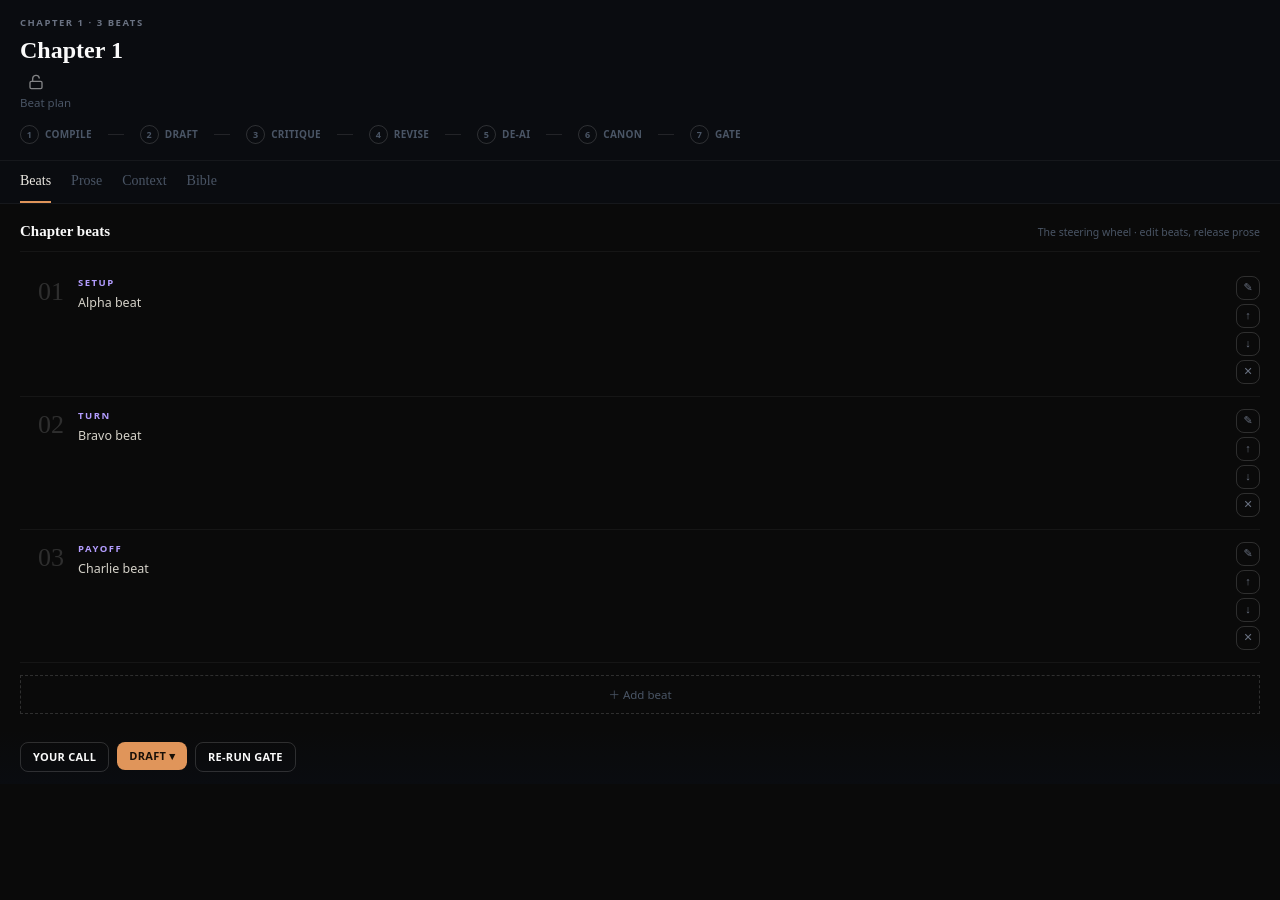
Test: DeckWorkspace — beat delete control › a 409 from the PATCH surfaces the locked-chapter refusal toast
Click the 1st button titled "Delete beat": x=1248, y=372 [1236,360,1260,384]
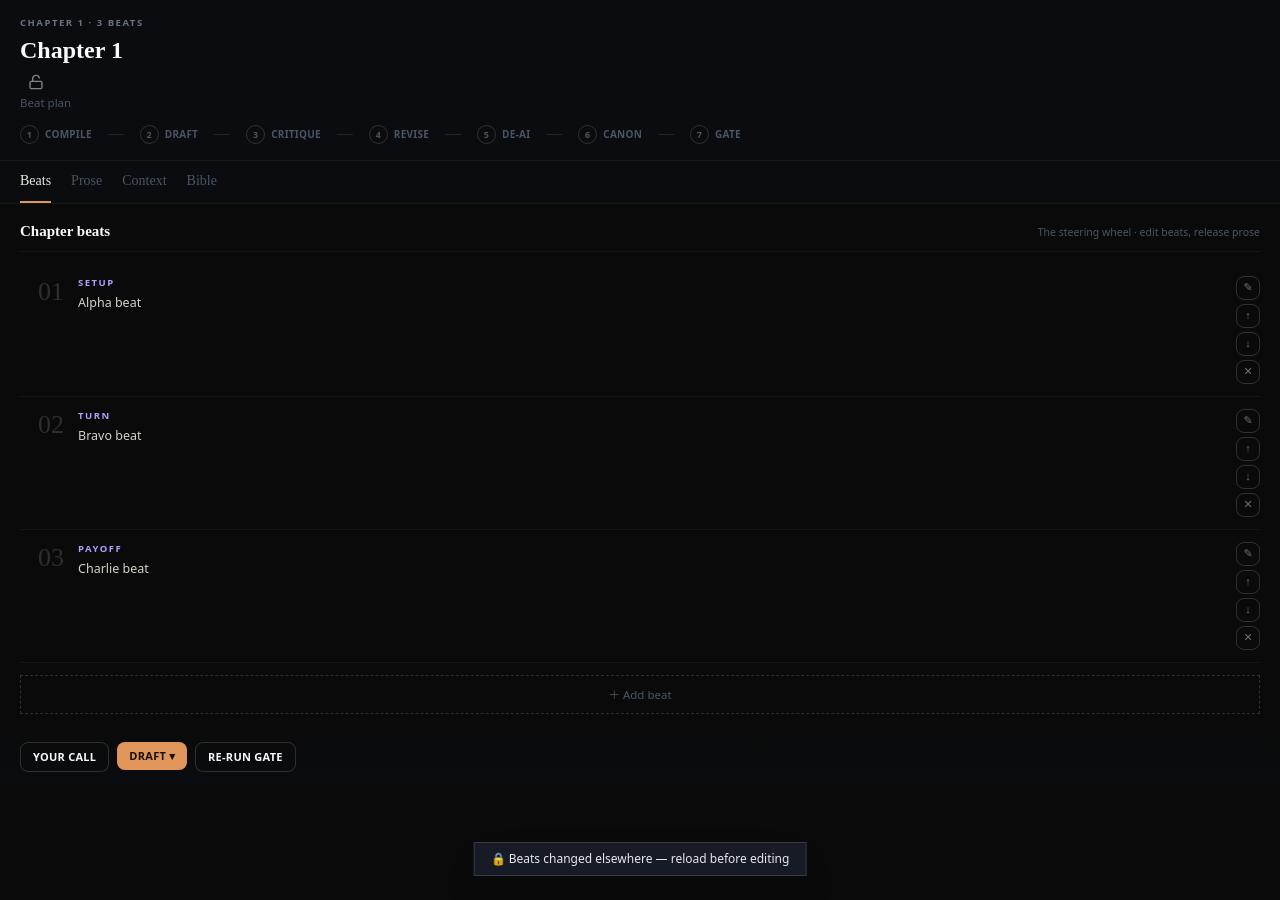
Expected: the text "Beats changed elsewhere — reload before editing" is shown, [491,850,789,867]
